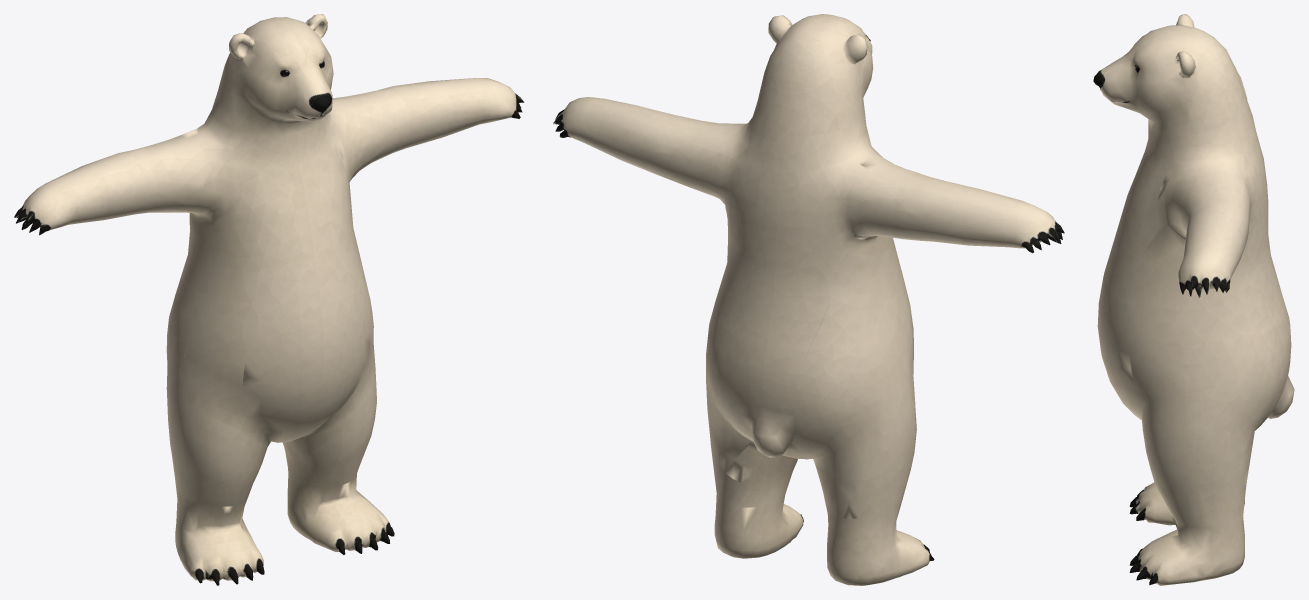
The model's file is polar-bear-tpose.fbx.
The picture shows the model from 3 angles, left to right: view 1: azimuth 30°, elevation 25°; view 2: azimuth 150°, elevation 25°; view 3: azimuth 270°, elevation 25°; orthographic projection. The views are drawn at different scales.
Parts seen in each view (by area): view 1: output_unwrapped; view 2: output_unwrapped; view 3: output_unwrapped.
Part boxes in pixels (x1,y1,x2,y2): output_unwrapped: (14,14,524,585); output_unwrapped: (553,14,1064,585); output_unwrapped: (1093,14,1294,585).
Size of the model in its own units: 0.998 by 0.998 by 0.3574.
